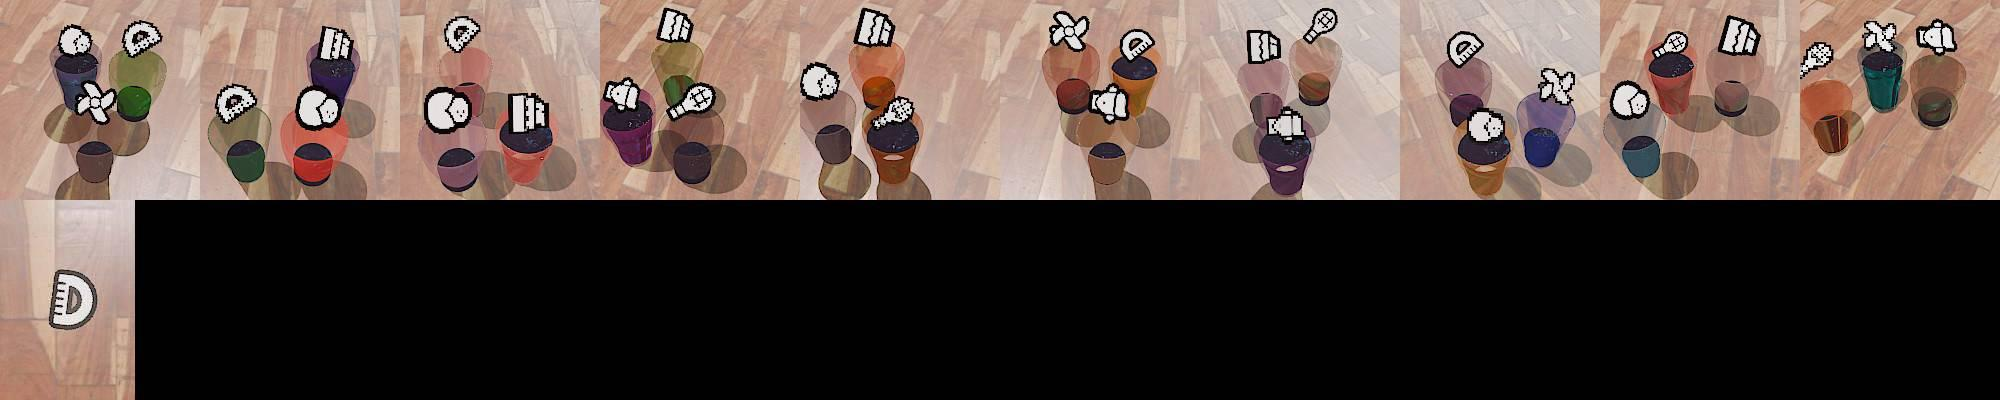icon: (48, 269, 99, 330), (293, 84, 343, 130), (666, 80, 717, 121), (75, 80, 119, 125), (1717, 15, 1761, 57), (213, 83, 258, 125), (869, 94, 917, 132), (1047, 10, 1091, 52), (853, 8, 895, 48), (508, 92, 548, 134), (798, 61, 842, 101), (1089, 82, 1130, 122), (1608, 79, 1651, 118), (1916, 18, 1958, 56), (121, 19, 163, 57), (443, 15, 482, 55), (602, 75, 644, 112), (656, 6, 695, 45), (1445, 31, 1483, 69), (1538, 66, 1577, 104), (429, 89, 466, 129), (1466, 108, 1506, 144), (316, 24, 353, 62), (1246, 28, 1283, 65), (1798, 41, 1834, 79), (1302, 6, 1338, 45), (1268, 108, 1309, 141), (1117, 28, 1156, 62), (1862, 19, 1898, 55), (56, 24, 94, 57), (1651, 31, 1690, 62)
